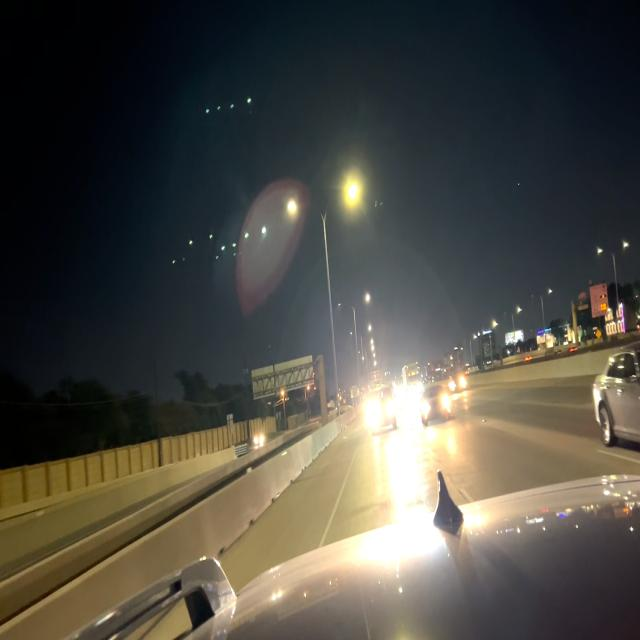back-of-sign: (250, 353, 315, 403)
